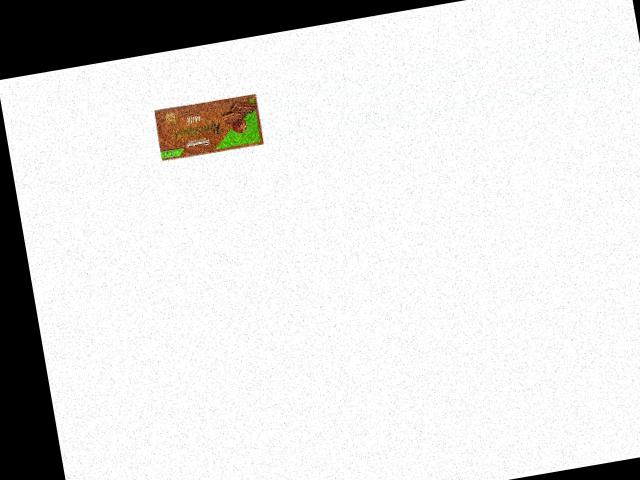chocolate: (148, 88, 266, 164)
